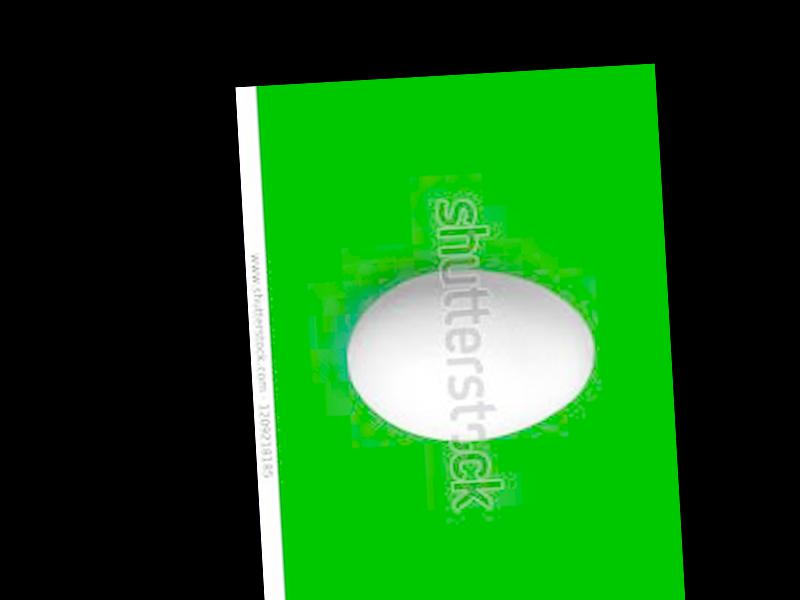Eggs: (344, 261, 598, 445)
